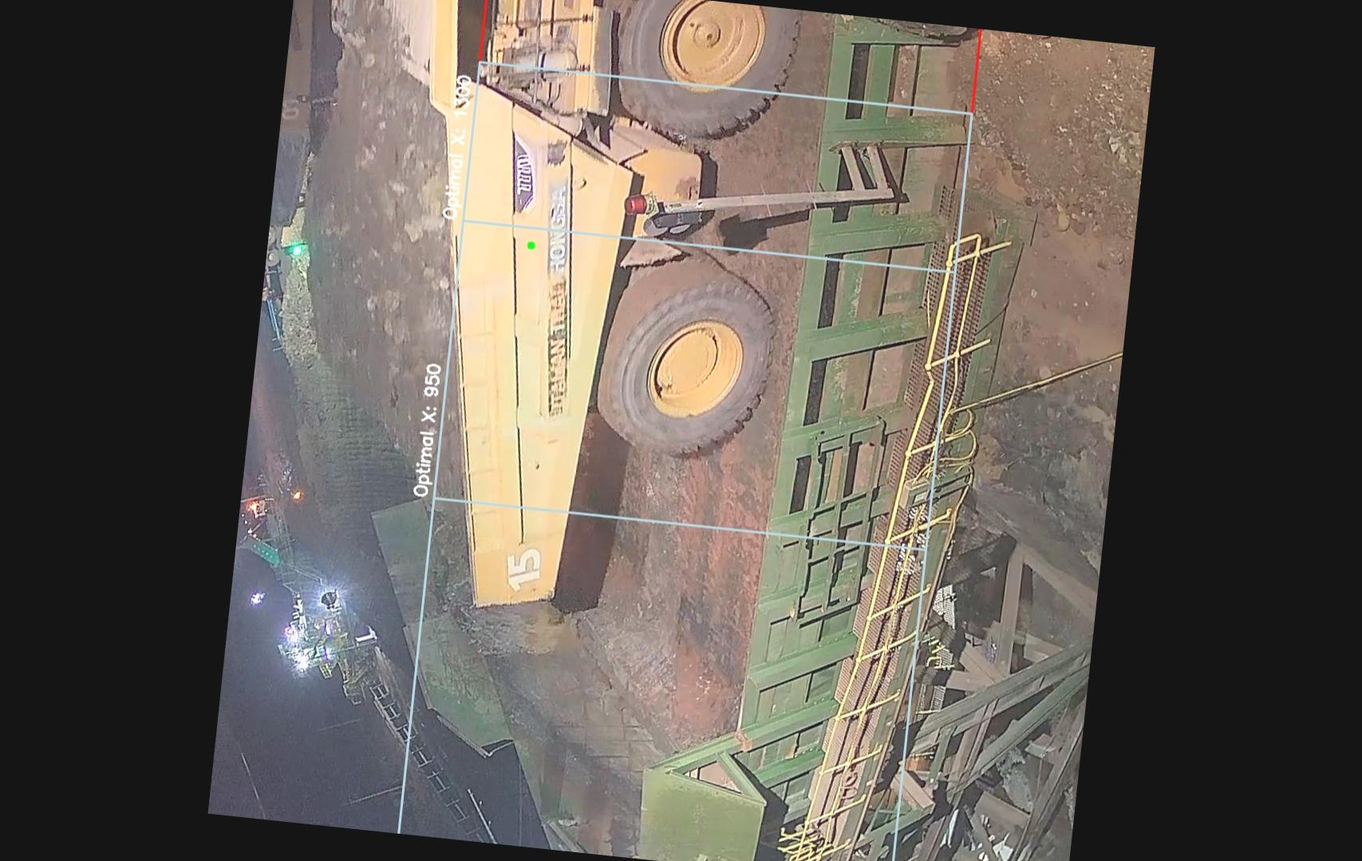company: (517, 155, 594, 434)
full_load: (290, 33, 513, 519)
mining_truck: (251, 0, 807, 647)
tail_number: (498, 540, 552, 598)
truck_size: (505, 144, 541, 208)
